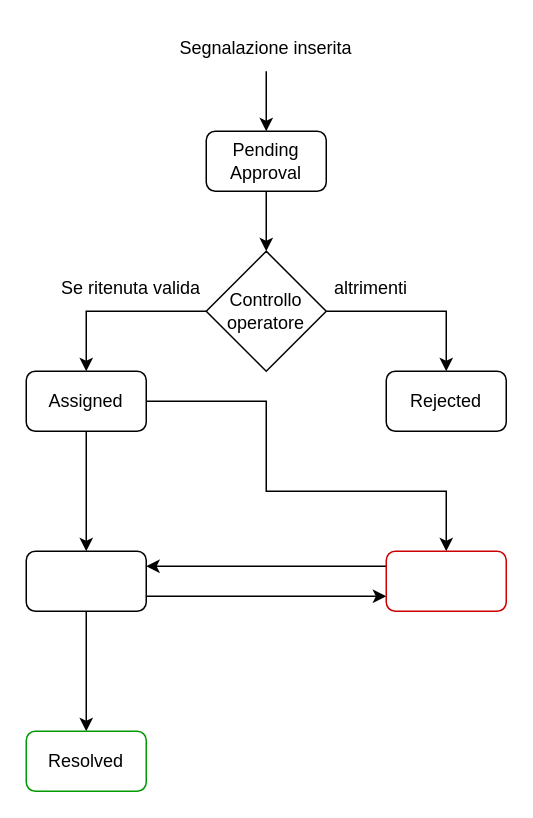
The diagram is 533 pixels wide and 818 high, and some of its shapes have lost their labels. The shapes that lost their labels are listed below. From the top down, each one's centre as x and y in pixels, then its label:
(85,580): In progress
(445,580): Suspended
